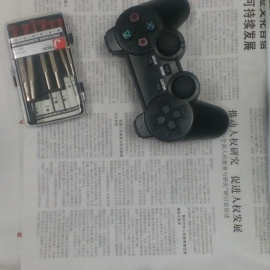remote: (105, 1, 227, 139)
